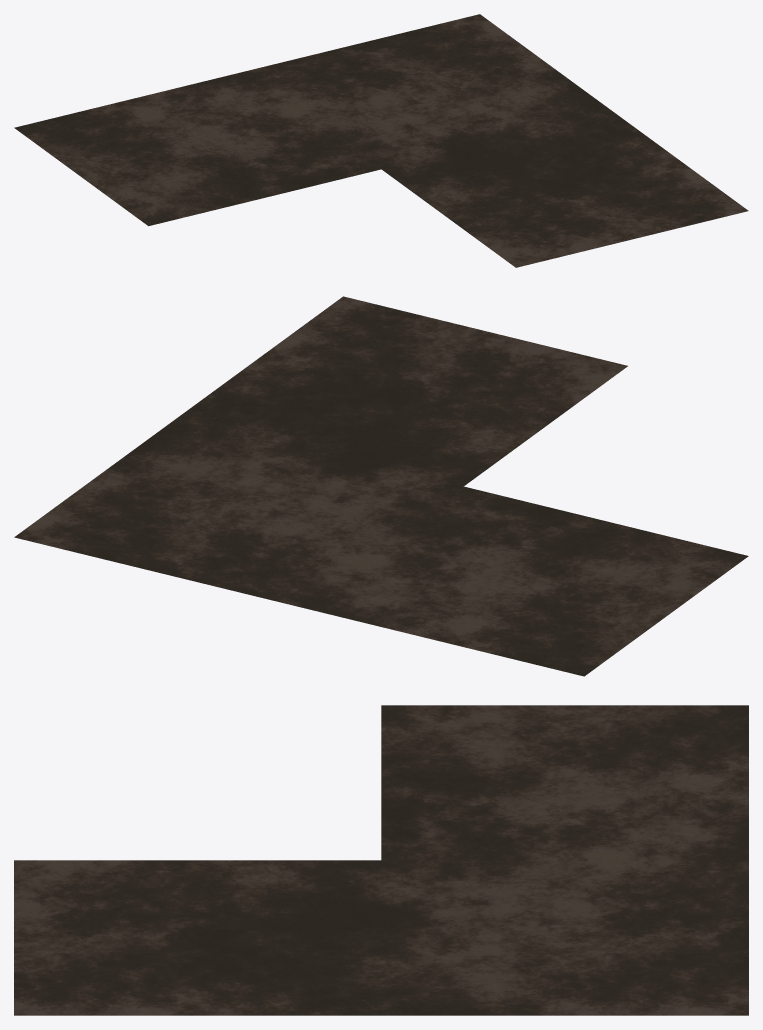
The model's file is floor_-3_-6.glb.
The picture shows the model from 3 angles, top to bottom: view 1: azimuth 30°, elevation 25°; view 2: azimuth 150°, elevation 25°; view 3: azimuth 270°, elevation 25°; orthographic projection. The views are drawn at different scales.
Parts seen in each view (by area): view 1: floor_-3_-6; view 2: floor_-3_-6; view 3: floor_-3_-6.
Part boxes in pixels (x1=…): floor_-3_-6: x1=14, y1=14, x2=748, y2=267; floor_-3_-6: x1=14, y1=296, x2=748, y2=676; floor_-3_-6: x1=14, y1=705, x2=748, y2=1015.
Bounding box in the file's own units: 8 × 0 × 8.
1 material, 1 textured.
